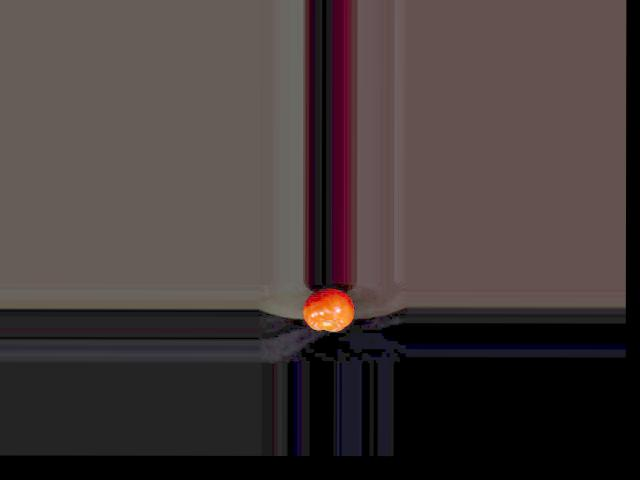tomato: (303, 288, 355, 331)
